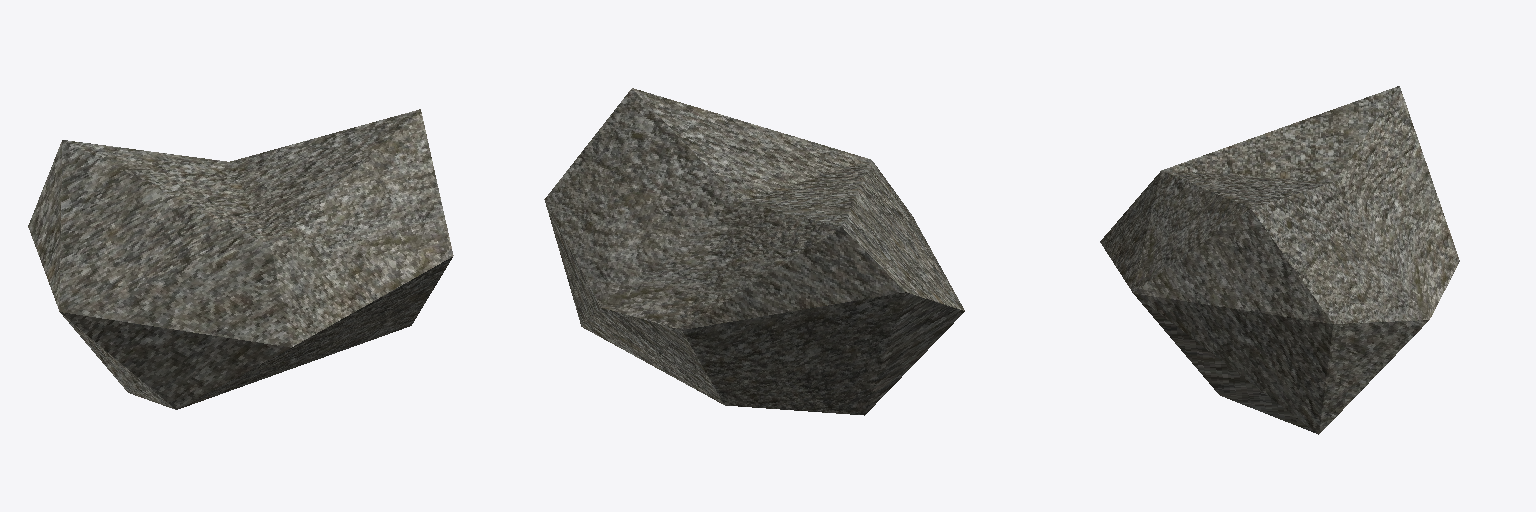
3 views of the same model, side by side, from view 1: azimuth 30°, elevation 25°; view 2: azimuth 150°, elevation 25°; view 3: azimuth 270°, elevation 25° (orthographic).
Visible parts, largest first — view 1: cubicflat8; view 2: cubicflat8; view 3: cubicflat8.
Part boxes in pixels (x1,y1,x2,y2): cubicflat8: (28, 109, 453, 409); cubicflat8: (544, 88, 964, 415); cubicflat8: (1100, 86, 1459, 434).
Bounding box in the file's own units: 2.57 × 1.51 × 2.04.
Materials: 1 (1 with a texture image).